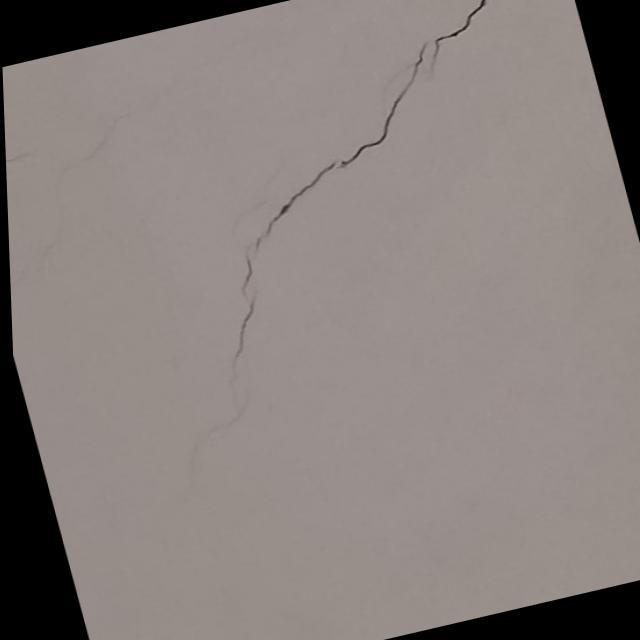Crack: (225, 14, 467, 380)
